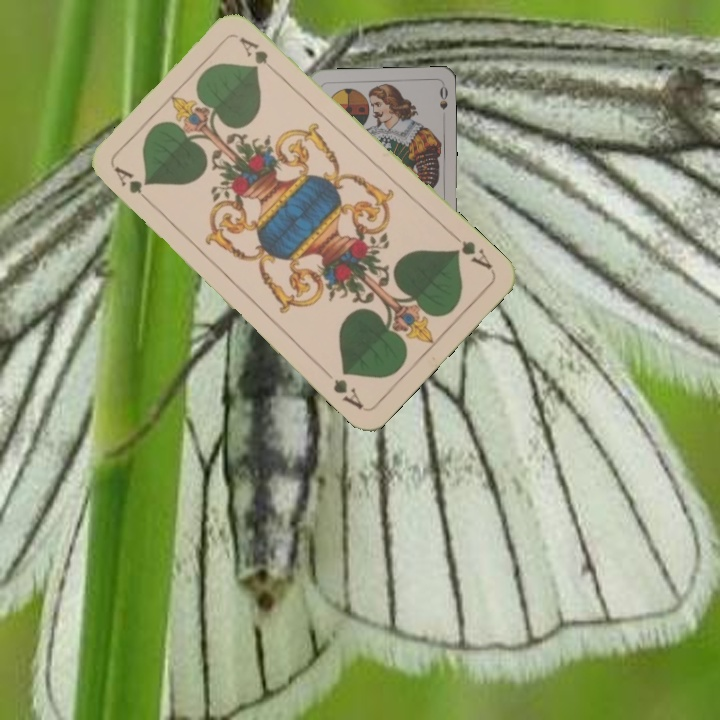GA: (110, 162, 155, 210), (447, 229, 496, 273)
